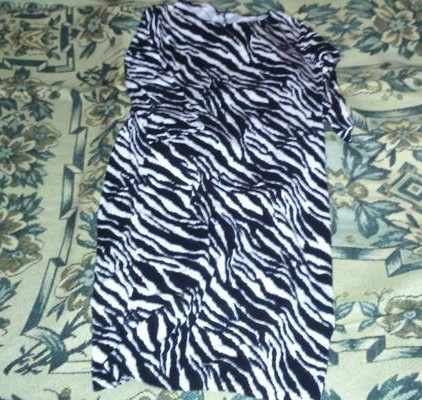Dress: (83, 12, 351, 392)
